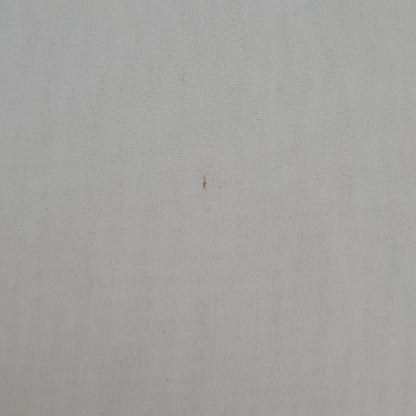spot: (199, 169, 211, 192)
